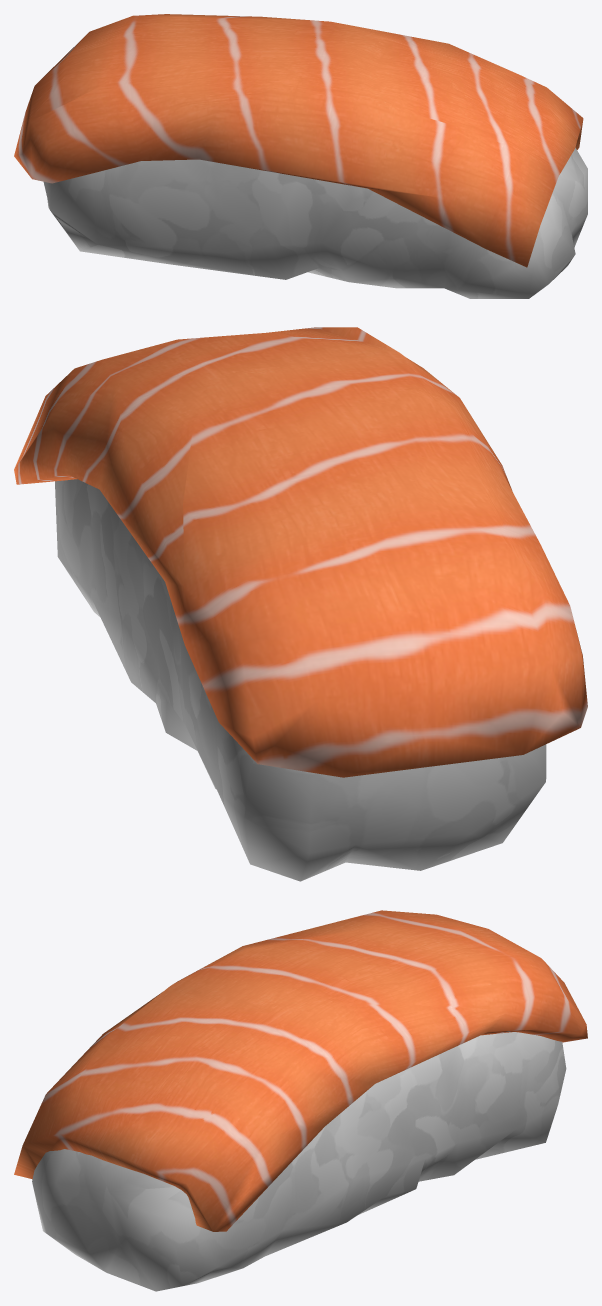
Rendered from _almonsushi.fbx.
3 renders of one model, top to bottom at view 1: azimuth 30°, elevation 25°; view 2: azimuth 150°, elevation 25°; view 3: azimuth 270°, elevation 25°, orthographic. The views are drawn at different scales.
Visible parts, largest first — view 1: Salmon 4, Riceball 4; view 2: Salmon 4, Riceball 4; view 3: Salmon 4, Riceball 4.
Boxes of the visible parts, <box> form: Salmon 4: <box>14,14,583,267</box>; Riceball 4: <box>43,147,587,298</box>; Salmon 4: <box>14,327,587,777</box>; Riceball 4: <box>55,479,546,881</box>; Salmon 4: <box>14,910,587,1231</box>; Riceball 4: <box>32,1032,566,1291</box>.
Size of the model in its own units: 101 by 44.15 by 102.
Materials: 2 (2 with a texture image).
